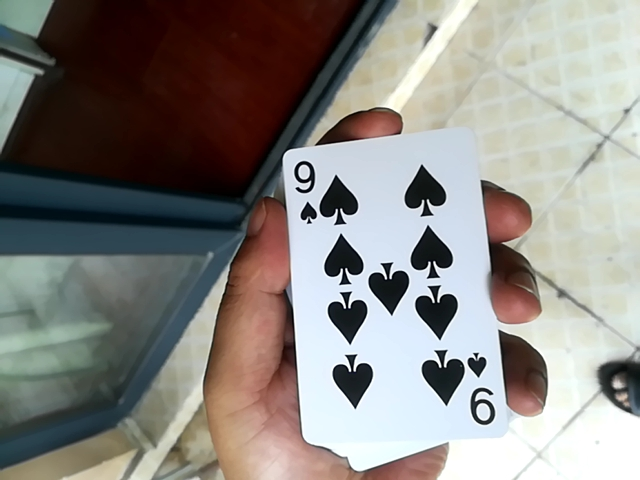ht 9: (280, 122, 513, 479)
